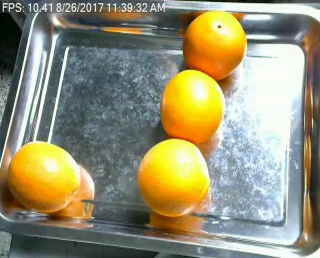Orange: (138, 138, 210, 217), (6, 140, 79, 213), (161, 70, 225, 143), (184, 11, 246, 79)
